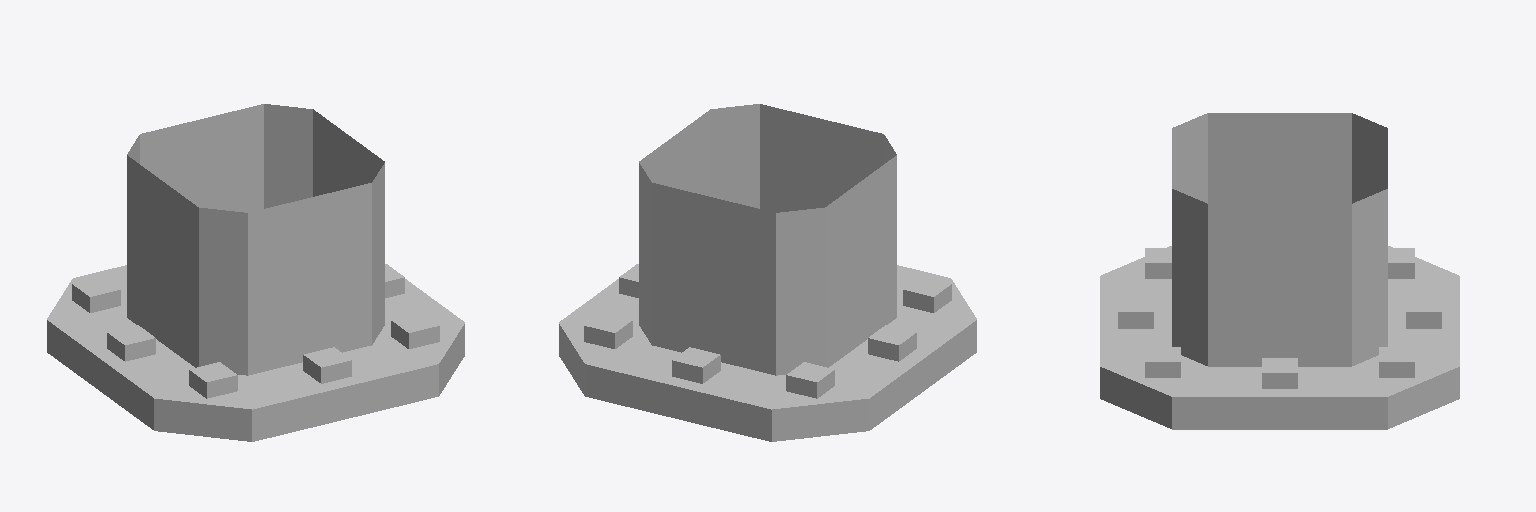
The model's file is pipe_end.obj.
The picture shows the model from 3 angles: view 1: azimuth 30°, elevation 25°; view 2: azimuth 150°, elevation 25°; view 3: azimuth 270°, elevation 25°; orthographic projection.
Visible parts, largest first — view 1: pipe, cylinder, screw1, screw2, screw3, screw6, screw5; view 2: pipe, cylinder, screw7, screw2, screw3, screw6, screw4; view 3: pipe, cylinder, screw1, screw7, screw8, screw4, screw5, screw3, screw6.
Boxes of the visible parts, x1,y1,x2,y2 form: pipe: [127, 104, 384, 375]; cylinder: [47, 265, 464, 441]; screw1: [303, 347, 351, 383]; screw2: [107, 325, 155, 361]; screw3: [72, 277, 120, 312]; screw6: [189, 362, 237, 398]; screw5: [391, 313, 439, 348]; pipe: [639, 104, 896, 375]; cylinder: [559, 265, 976, 441]; screw7: [672, 347, 720, 383]; screw2: [868, 325, 916, 361]; screw3: [786, 362, 834, 398]; screw6: [903, 277, 951, 312]; screw4: [584, 313, 632, 348]; pipe: [1172, 113, 1387, 366]; cylinder: [1100, 246, 1459, 429]; screw1: [1118, 297, 1153, 328]; screw7: [1406, 297, 1441, 328]; screw8: [1262, 358, 1297, 388]; screw4: [1379, 347, 1414, 377]; screw5: [1145, 347, 1180, 377]; screw3: [1388, 248, 1414, 278]; screw6: [1145, 248, 1171, 278].
Bounding box in the file's own units: 0.625 × 0.375 × 0.625.